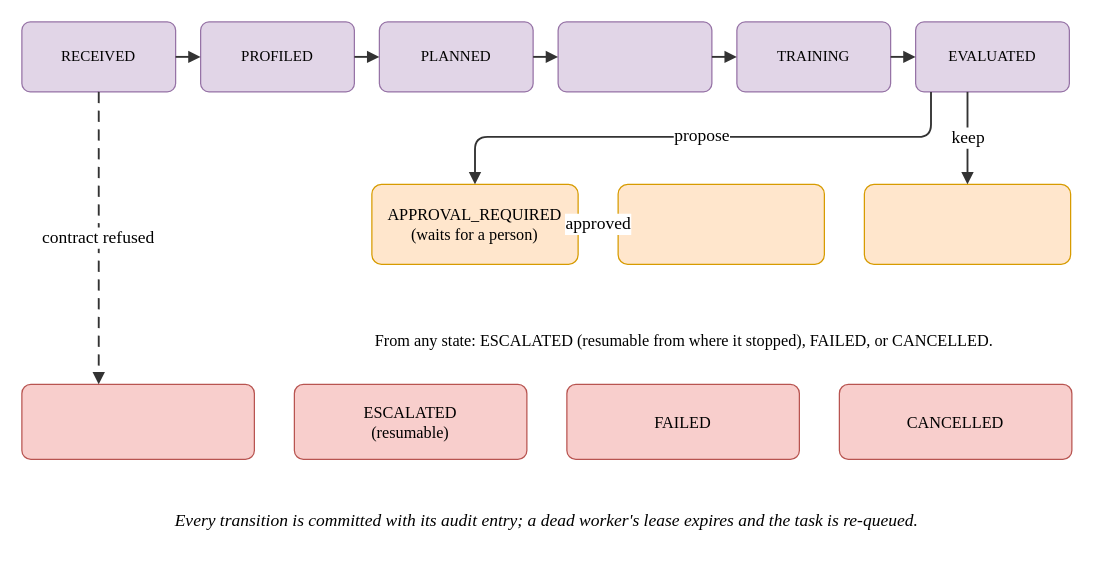
This 1094x569 diagram has some shape labels left out. The centre of each missing label's shape, as x and y in pixels:
FEATURES_READY: the point at 634,56
PUBLISHED: the point at 720,223
REJECTED_INPUT: the point at 137,421
SELECTED (champion kept): the point at 967,223
